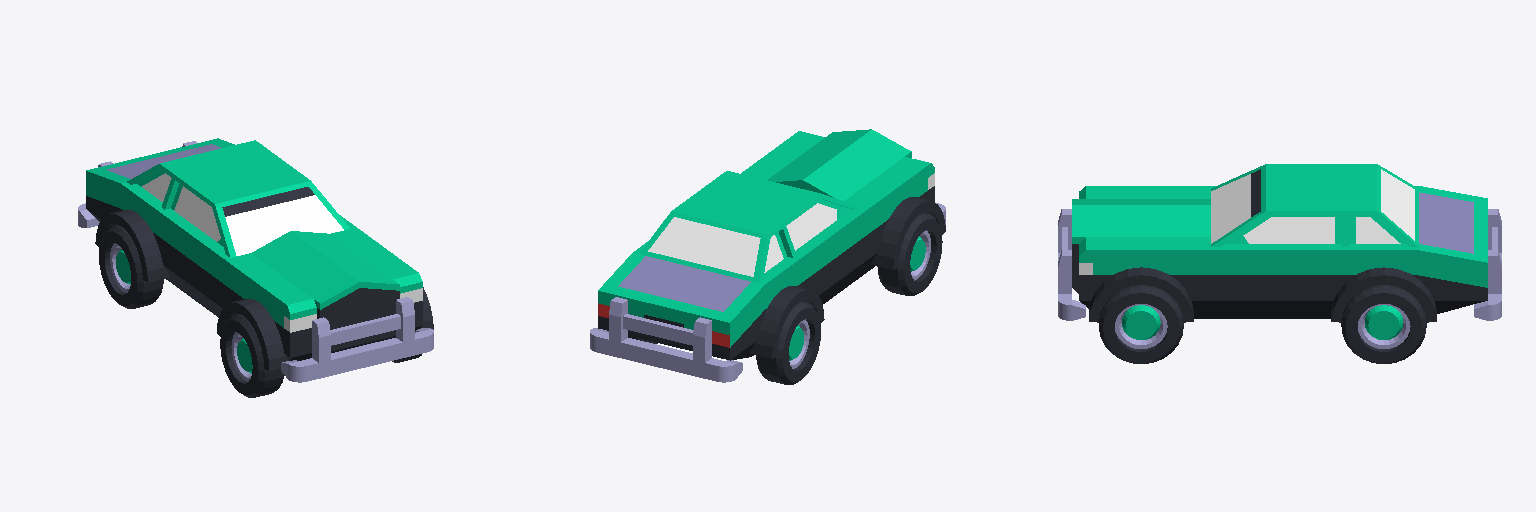
File: Car1.obj
3 renders of one model, left to right at view 1: azimuth 30°, elevation 25°; view 2: azimuth 150°, elevation 25°; view 3: azimuth 270°, elevation 25°, orthographic.
Parts seen in each view (by area): view 1: mergedBlocks; view 2: mergedBlocks; view 3: mergedBlocks.
Boxes of the visible parts, box(x1,y1,x2,y2) form: mergedBlocks: box(78, 138, 433, 397); mergedBlocks: box(590, 129, 945, 384); mergedBlocks: box(1058, 164, 1501, 363).
Bounding box in the file's own units: 1.43 × 1.09 × 3.2.